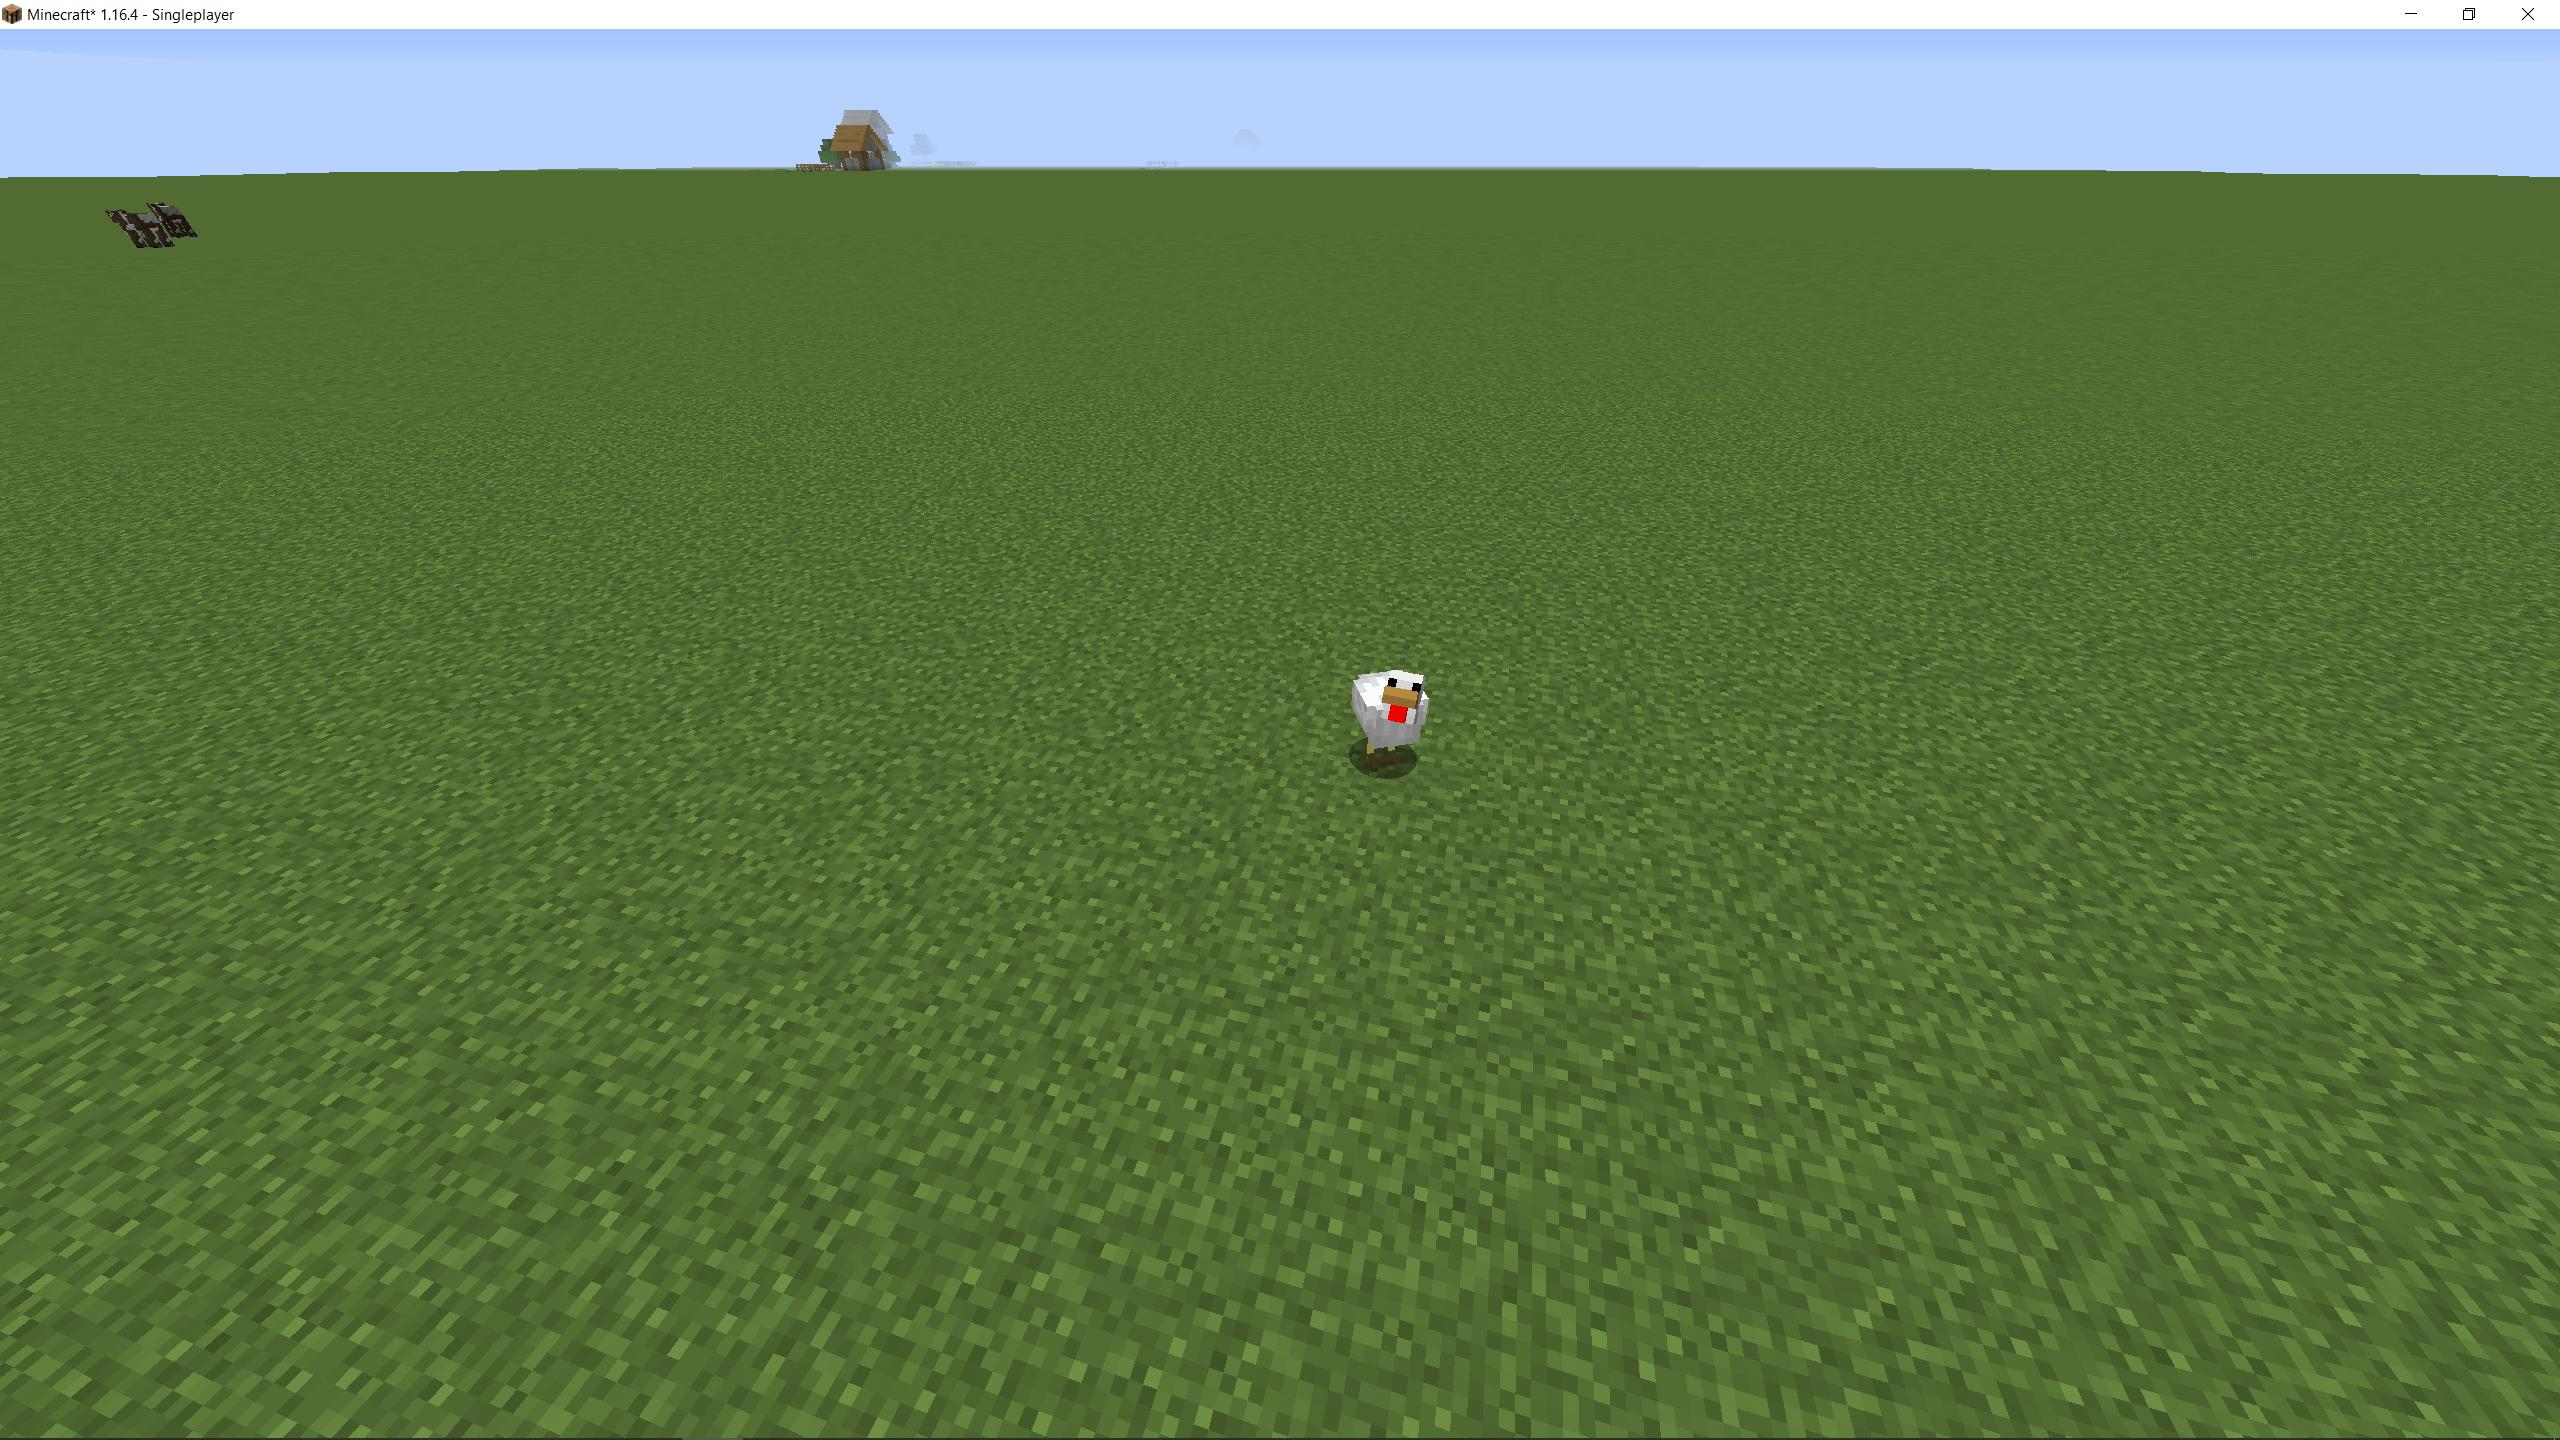chicken: (1347, 665, 1435, 774)
